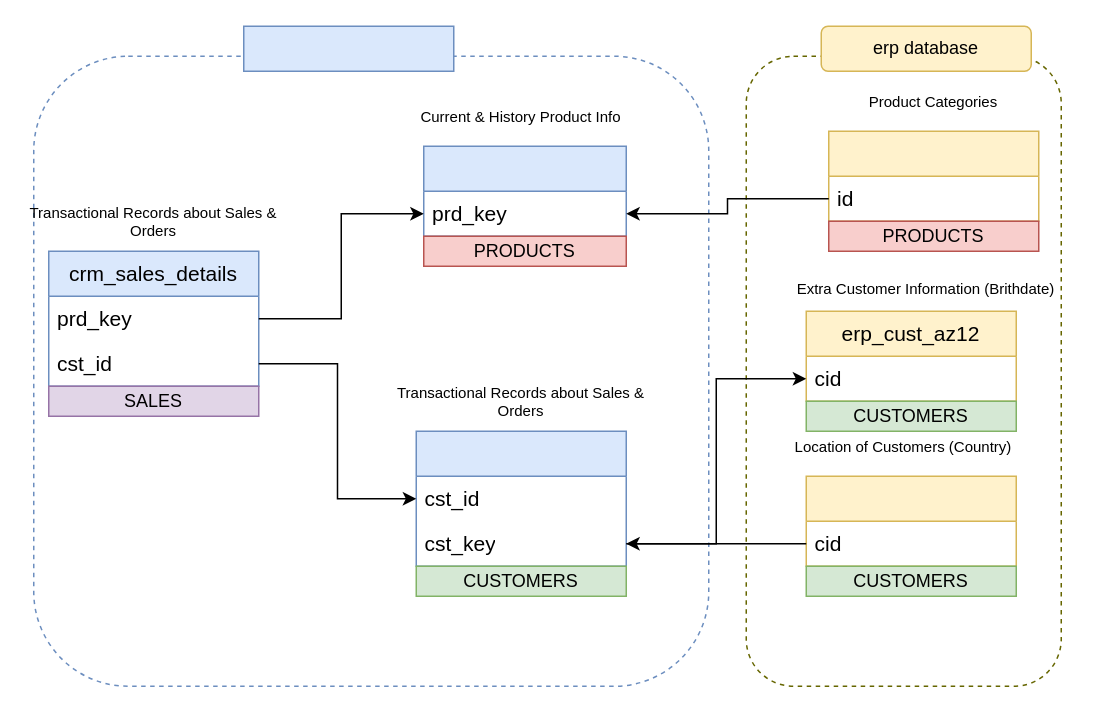
The diagram is 1094 pixels wide and 713 high, and some of its shapes have lost their labels. The box of each missing label's shape, as (x1, y1, x2, y2) in pixels:
crm database: (242, 25, 454, 71)
crm_cust_info: (415, 430, 626, 566)
crm_prd_info: (422, 145, 626, 236)
erp_loc_a101: (805, 475, 1016, 566)
erp_px_cat_g1v2: (827, 130, 1039, 221)
